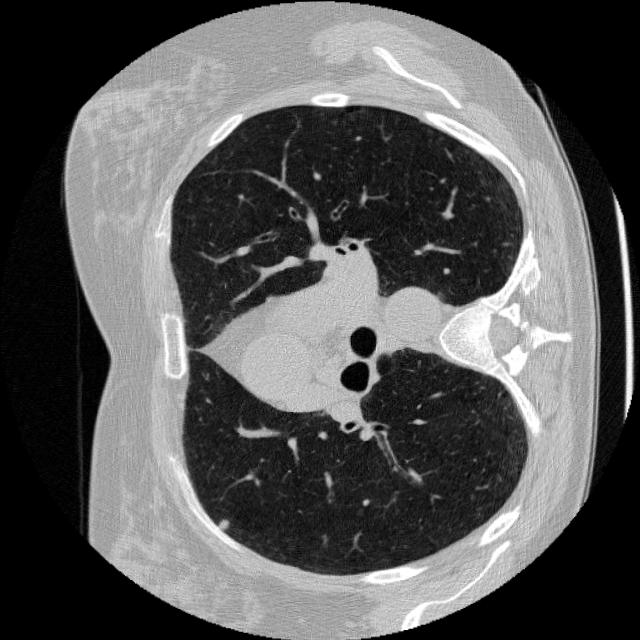nodule: (210, 513, 235, 538)
